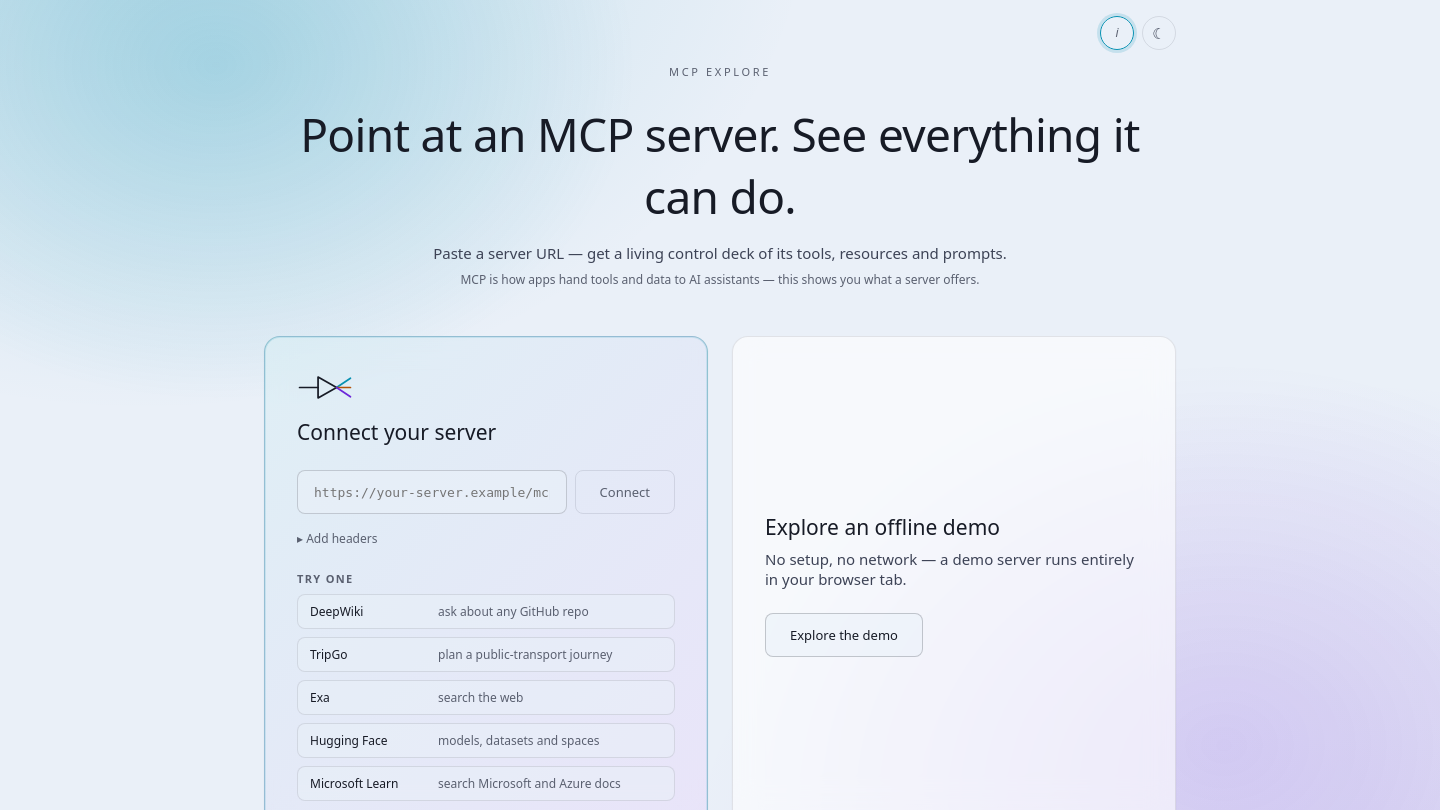
it: a probe that stays silent never mentions CORS at all
Type "https://api.example/mcp" into the field named "server url" at (432, 492), box [297,470,567,514]
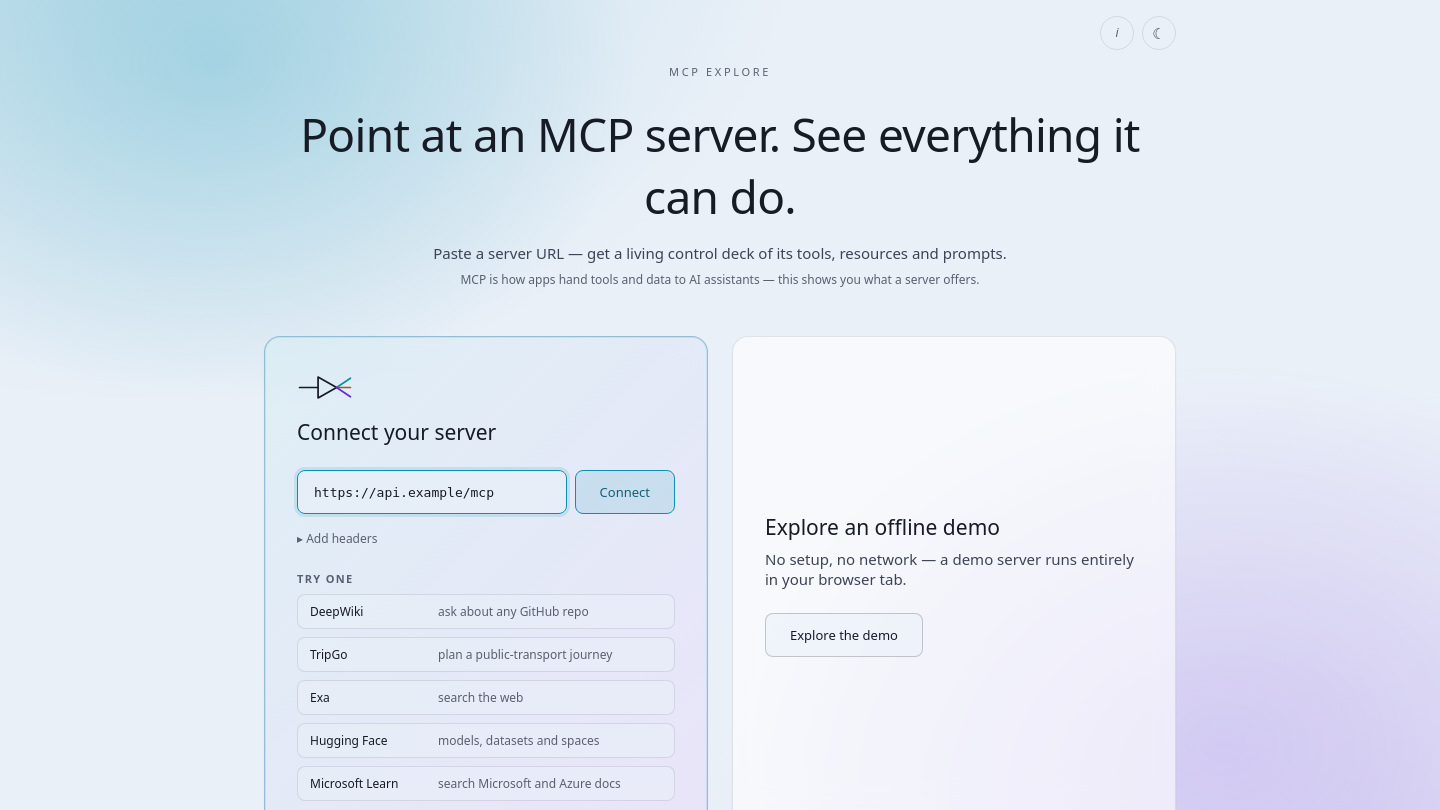
Click the button "Connect" at (625, 492), box [575,470,675,514]
(page scrolled)
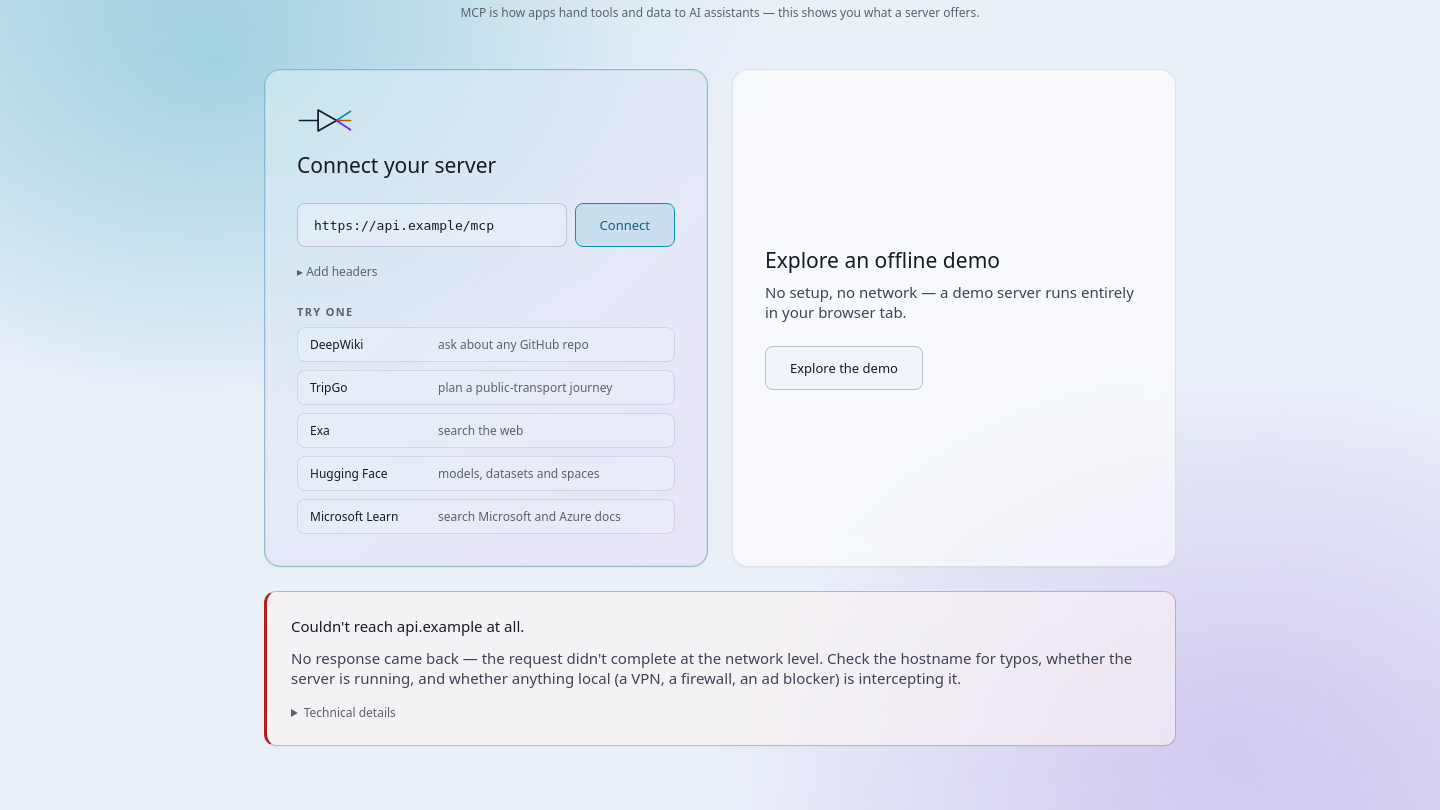
Expected: the message does not show "Access-Control", [264,591,1176,746]
Expected: the message shows "Couldn't reach api.example at all", [291,616,524,636]
